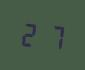seven: (42, 20, 64, 51)
two: (19, 18, 41, 49)
